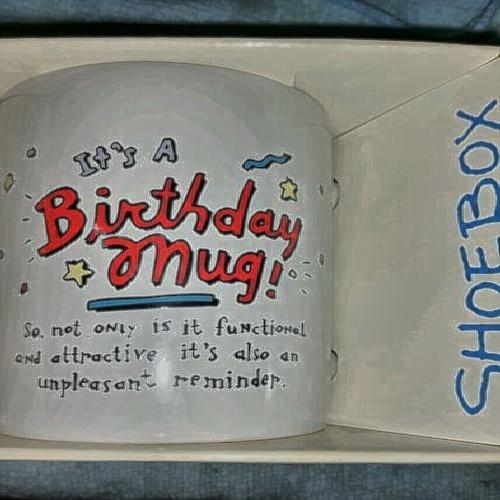mug: (13, 76, 337, 447)
